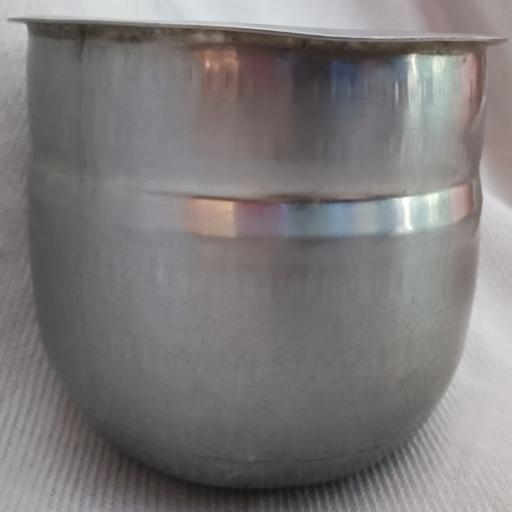vessel: (10, 18, 500, 488)
